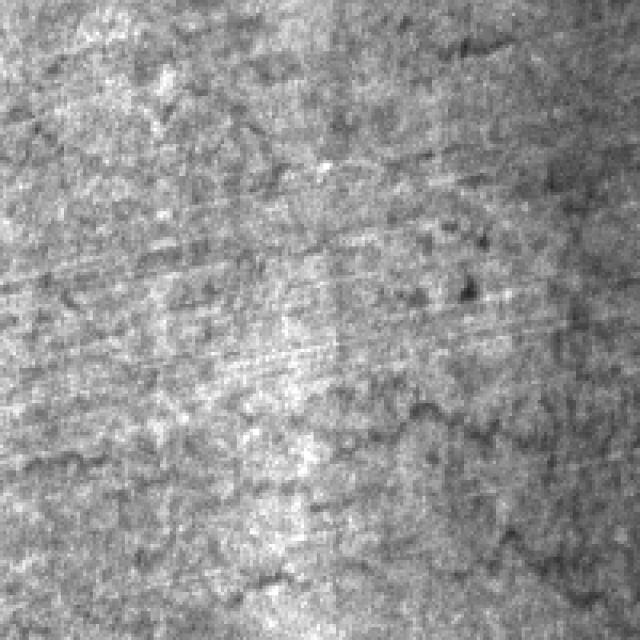crazing: (13, 380, 547, 618), (538, 154, 636, 634)
